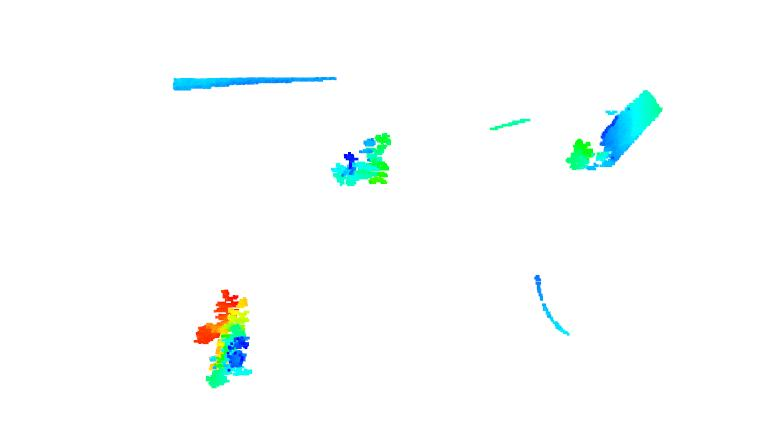chickpea: (191, 283, 260, 394), (324, 128, 401, 190), (560, 133, 598, 176)
